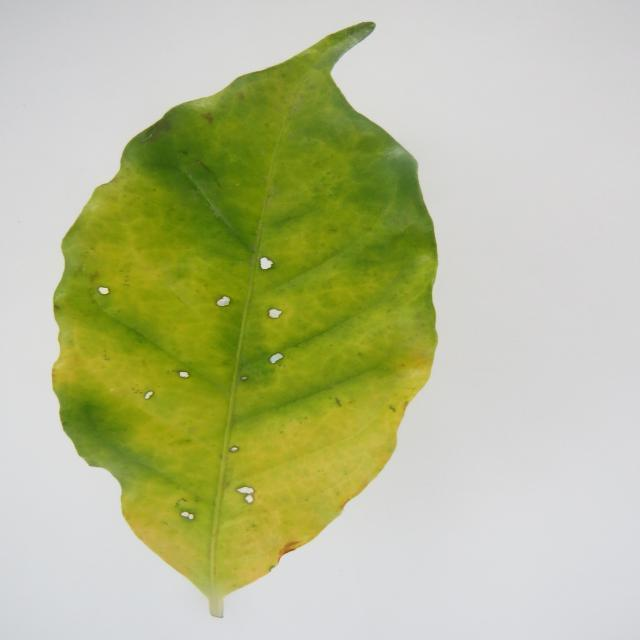DeficienciaNutricional-Nitrogeno: (53, 22, 437, 616)
